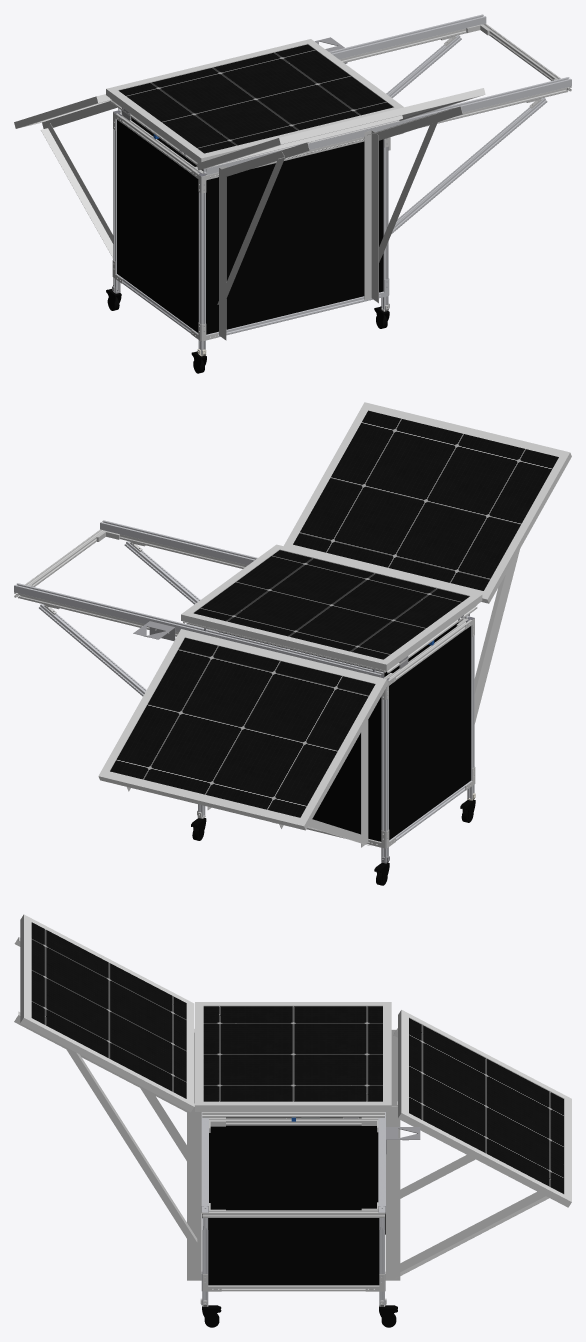
Rendered from observatory-web.glb.
The picture shows the model from 3 angles, top to bottom: view 1: azimuth 30°, elevation 25°; view 2: azimuth 150°, elevation 25°; view 3: azimuth 270°, elevation 25°; orthographic projection. The views are drawn at different scales.
Visible parts, largest first — view 1: Mesh_15, Mesh_17, Mesh_16, Mesh_11, Mesh_4, Mesh_2, Mesh_1, Mesh_0, Mesh_6, Mesh_5, Mesh_12, Mesh_7 (+2 smaller); view 2: Mesh_17, Mesh_18, Mesh_11, Mesh_16, Mesh_4, Mesh_12, Mesh_15, Mesh_1, Mesh_6, Mesh_0, Mesh_2, Mesh_5 (+1 smaller); view 3: Mesh_17, Mesh_15, Mesh_11, Mesh_18, Mesh_1, Mesh_12, Mesh_0, Mesh_2, Mesh_4, Mesh_7, Mesh_3.
Part boxes in pixels (x1,y1,x2,y2): Mesh_15: (106, 117, 389, 373); Mesh_17: (119, 44, 393, 153); Mesh_16: (117, 120, 198, 332); Mesh_11: (14, 39, 485, 258); Mesh_4: (118, 14, 571, 348); Mesh_2: (42, 24, 570, 340); Mesh_1: (28, 23, 571, 335); Mesh_0: (112, 28, 566, 341); Mesh_6: (113, 119, 383, 354); Mesh_5: (122, 35, 546, 335); Mesh_12: (110, 44, 483, 169); Mesh_7: (381, 138, 388, 309); Mesh_17: (194, 410, 558, 659); Mesh_18: (110, 638, 375, 817); Mesh_11: (98, 453, 571, 847); Mesh_16: (389, 626, 470, 839); Mesh_4: (14, 520, 470, 840); Mesh_12: (110, 402, 569, 770); Mesh_15: (191, 622, 475, 885); Mesh_1: (14, 529, 519, 848); Mesh_6: (199, 625, 474, 862); Mesh_0: (14, 534, 475, 848); Mesh_2: (15, 530, 473, 842); Mesh_5: (39, 541, 465, 840); Mesh_17: (31, 922, 382, 1101); Mesh_15: (202, 1125, 397, 1327); Mesh_11: (20, 914, 571, 1280); Mesh_18: (409, 1018, 563, 1193); Mesh_1: (14, 937, 386, 1306); Mesh_12: (24, 914, 563, 1115); Mesh_0: (18, 937, 397, 1306); Mesh_2: (194, 1028, 397, 1306); Mesh_4: (201, 1112, 385, 1290); Mesh_7: (202, 1228, 384, 1304); Mesh_3: (209, 1120, 365, 1289).
Size of the model in its own units: 1.54 by 1.18 by 1.89.
25 materials, 7 textured.
